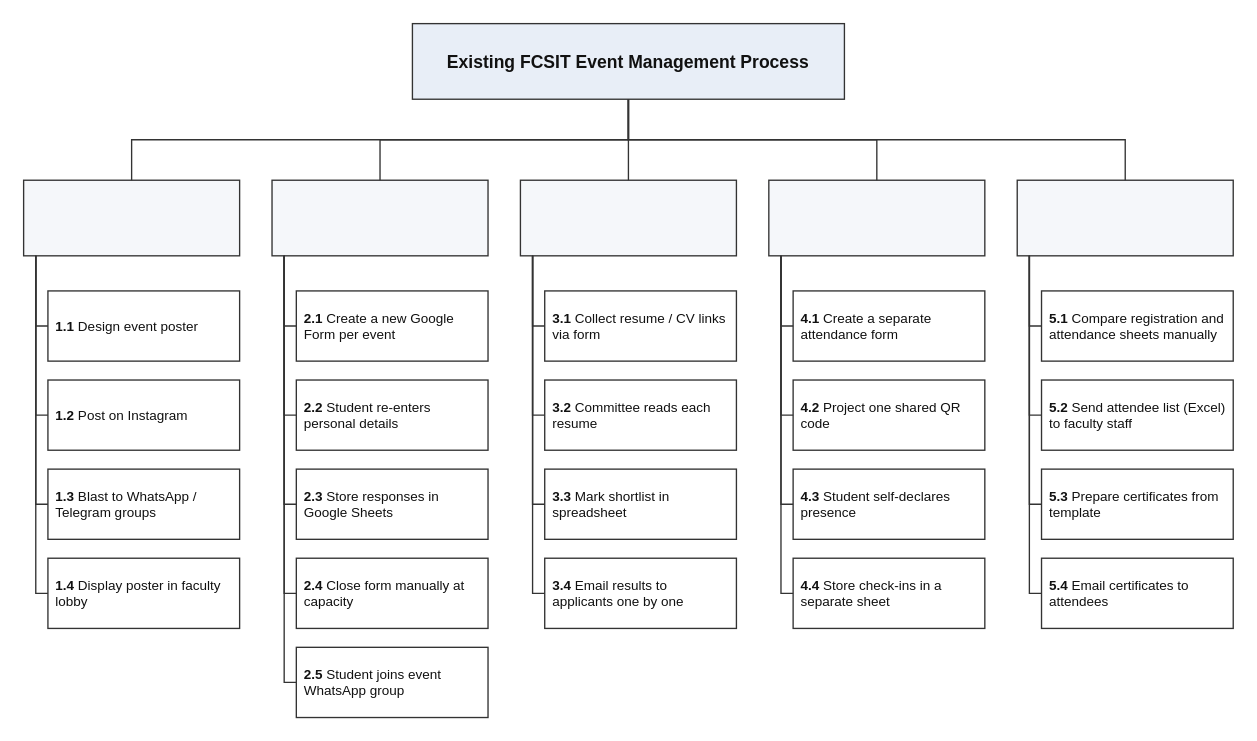
Some shapes in this 1257 by 741 pixel diagram are drawn without their labels. Here are the shapes that lost their labels. From the top down, the centre of each, then its label:
point (131, 217): 1.0 Event Publicity
point (379, 217): 2.0 Event Registration
point (627, 217): 3.0 Application Screening
point (876, 217): 4.0 Attendance Taking
point (1124, 217): 5.0 Post-Event Reporting
